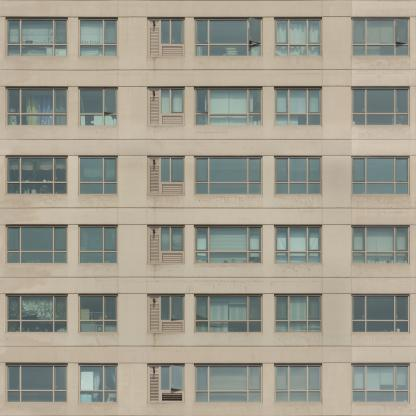Building Outline: (0, 1, 416, 416)
Facade: (0, 1, 416, 416)
Floor: (0, 346, 416, 412), (0, 207, 416, 273), (0, 277, 416, 342), (0, 139, 416, 204), (0, 70, 416, 135), (0, 0, 415, 65)
Floor Slab: (0, 411, 416, 416), (0, 65, 416, 70), (0, 342, 416, 347), (0, 135, 416, 139), (0, 204, 416, 208), (0, 273, 416, 277)
Window: (194, 365, 262, 403), (194, 19, 262, 57), (194, 88, 262, 126), (194, 157, 262, 195), (194, 226, 262, 264), (194, 296, 262, 334), (6, 365, 68, 403), (6, 19, 68, 57), (6, 157, 68, 195), (6, 226, 68, 264), (6, 88, 68, 125), (6, 296, 68, 333), (351, 365, 410, 403), (351, 19, 410, 57), (351, 88, 410, 126), (351, 157, 410, 195), (351, 226, 410, 264), (351, 296, 410, 334), (274, 365, 322, 403), (274, 19, 322, 57), (274, 88, 322, 126), (274, 157, 322, 195), (274, 226, 322, 264), (274, 296, 322, 334), (79, 365, 118, 403), (79, 19, 118, 57), (79, 157, 118, 195), (79, 226, 118, 264), (79, 88, 118, 125), (79, 296, 118, 333), (161, 365, 185, 390), (161, 19, 185, 44), (161, 88, 185, 113), (161, 157, 185, 182), (161, 227, 185, 251), (161, 296, 185, 320)
